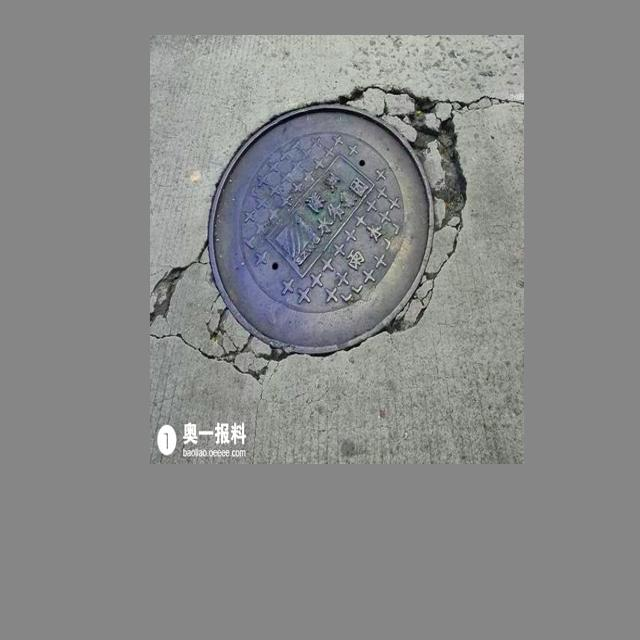circle: (157, 74, 472, 379)
